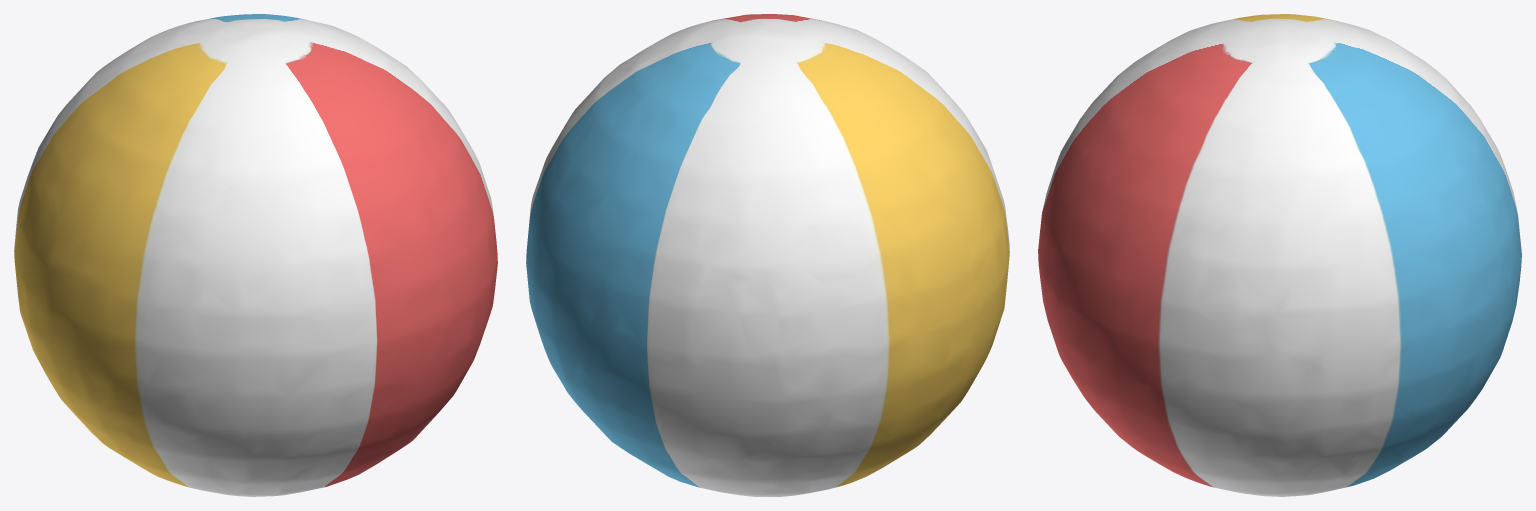
The model's file is ball.glb.
3 views of the same model, side by side, from view 1: azimuth 30°, elevation 25°; view 2: azimuth 150°, elevation 25°; view 3: azimuth 270°, elevation 25° (orthographic).
Size of the model in its own units: 0.9981 by 1 by 0.9994.
1 material, 1 textured.
